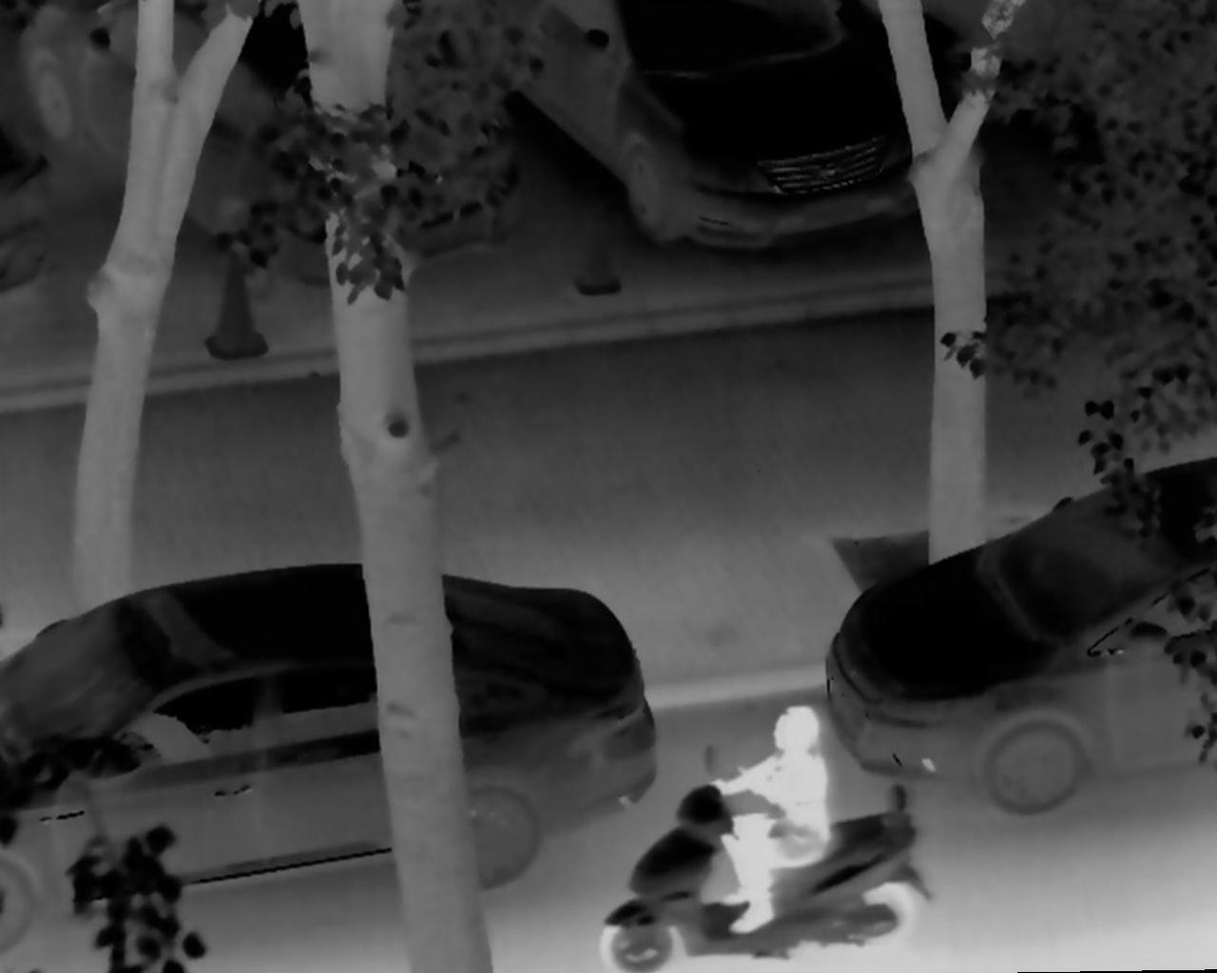person: (703, 704, 835, 939)
